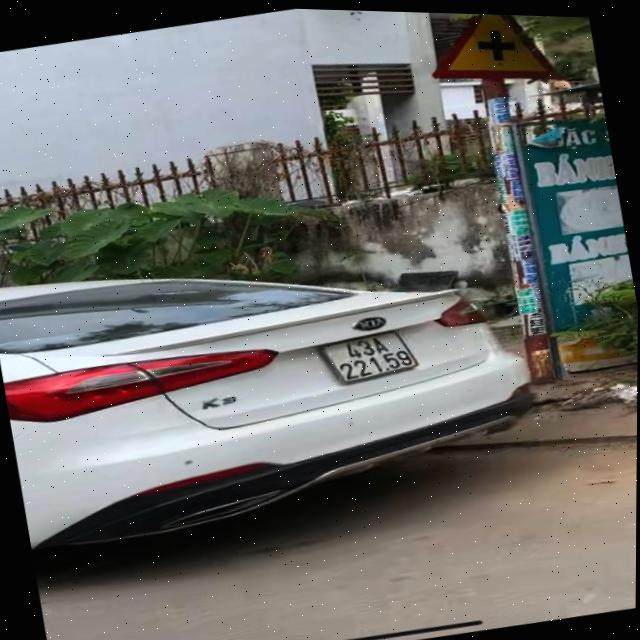car: (0, 184, 552, 586)
plate: (319, 321, 426, 394)
